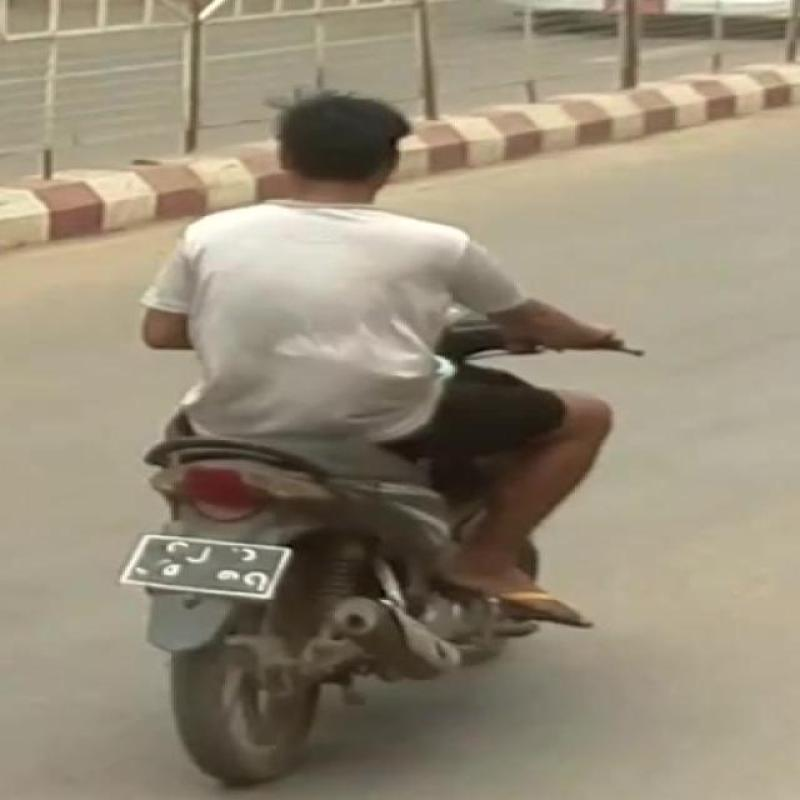nohelmet: (216, 73, 480, 194)
